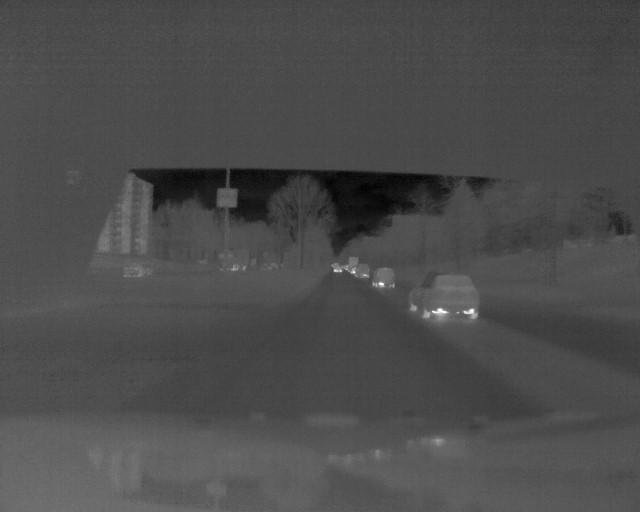car: (408, 271, 484, 324), (118, 258, 156, 279), (370, 260, 398, 288), (354, 262, 373, 280)
